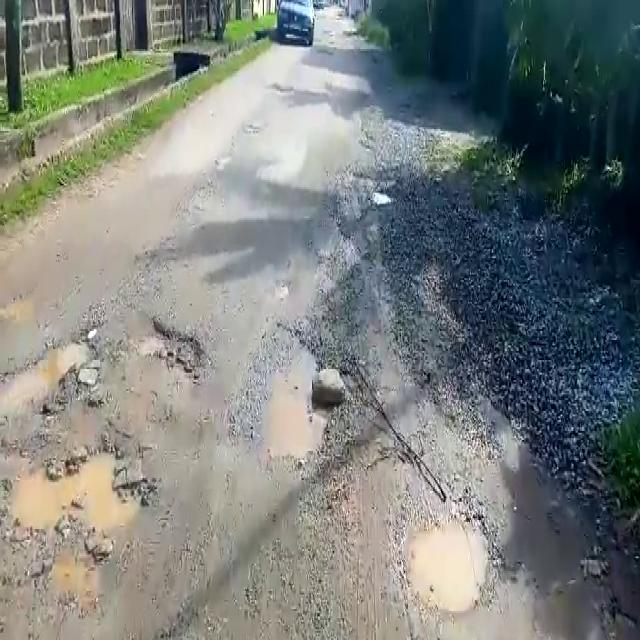Pothole: (5, 443, 156, 534), (403, 513, 489, 619), (2, 329, 103, 418), (264, 341, 333, 470), (132, 316, 201, 384)
